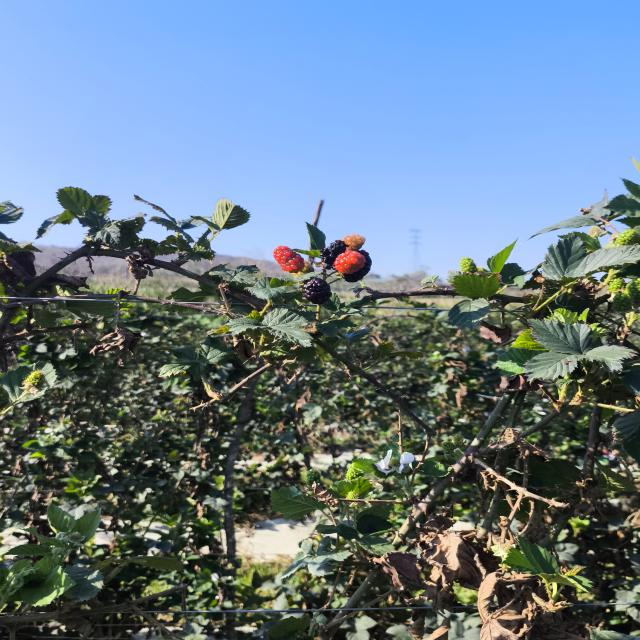maduro: (302, 278, 331, 304)
naranja: (273, 246, 305, 272), (333, 250, 365, 274)
